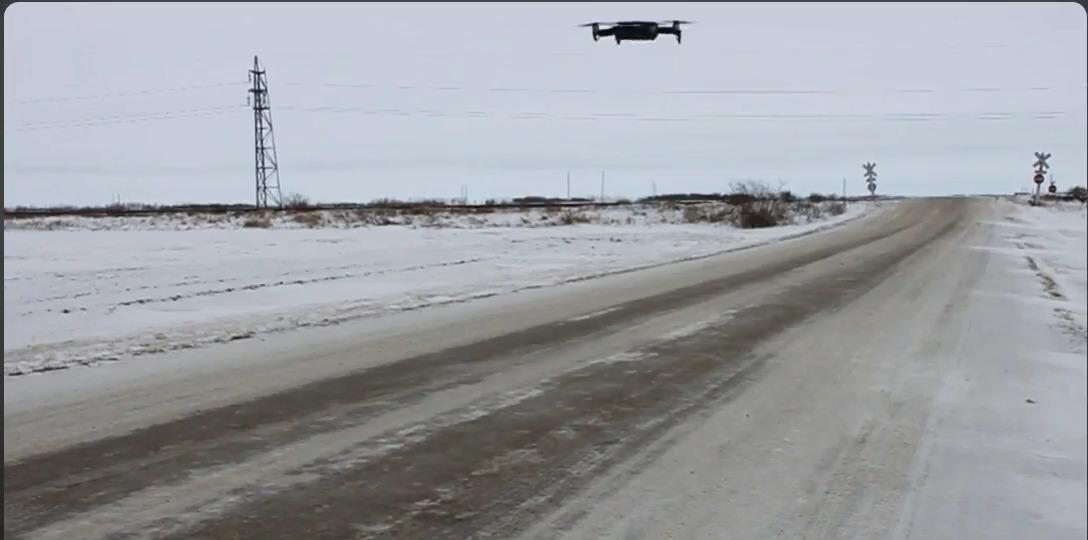dr: (563, 5, 780, 54)
